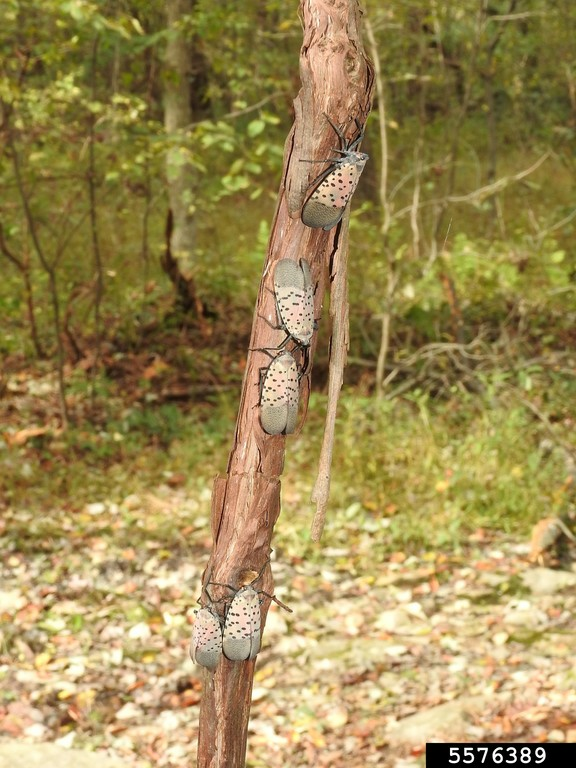adult: (241, 254, 332, 362), (325, 97, 399, 223), (242, 348, 330, 448), (216, 559, 275, 673), (177, 581, 223, 673)
